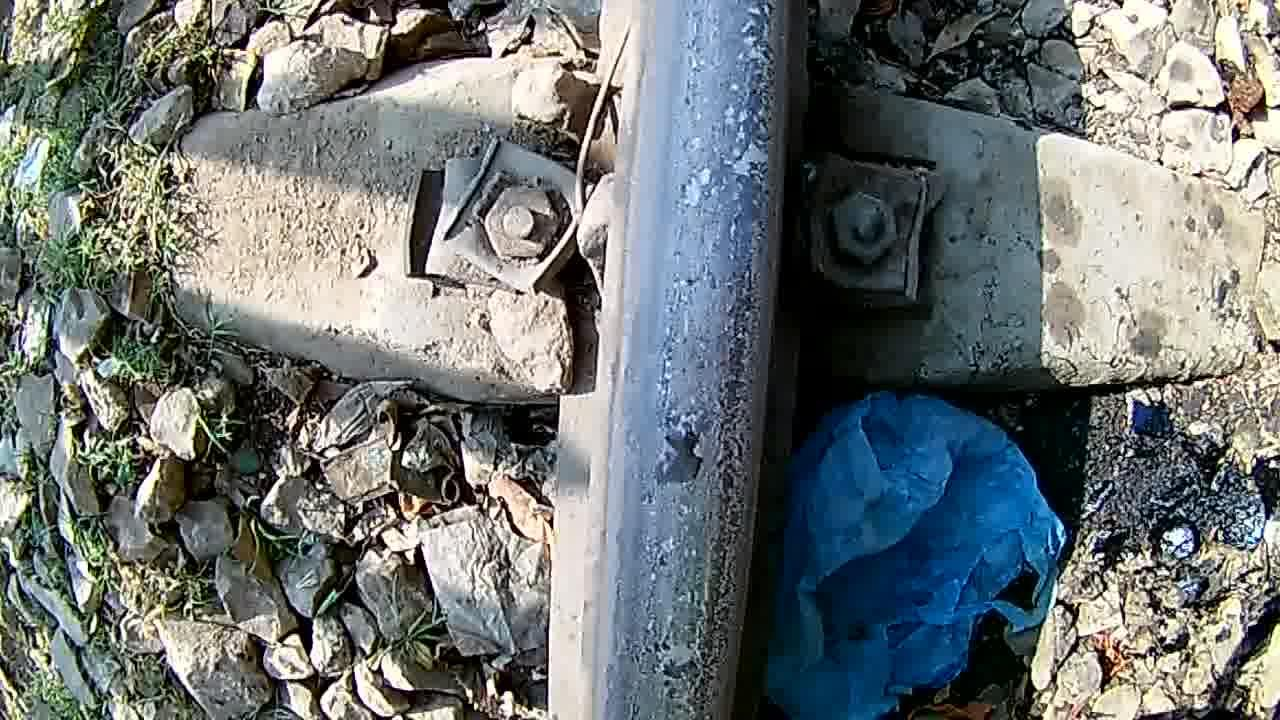crack: (613, 0, 783, 720)
